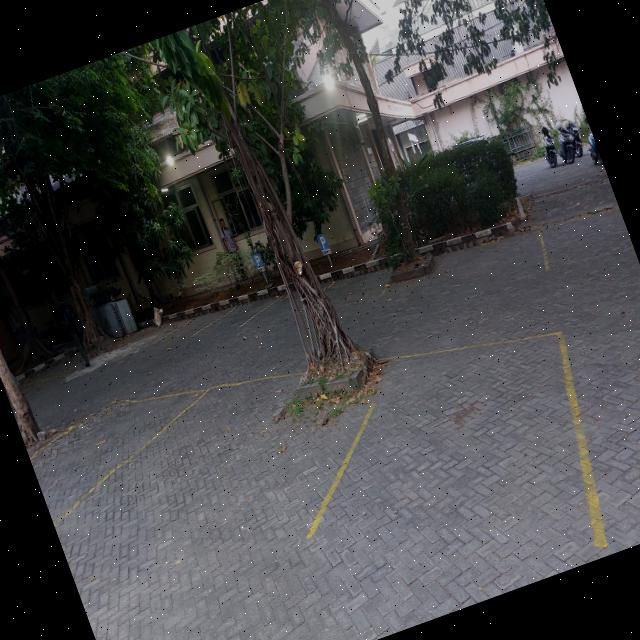empty: (309, 335, 602, 542), (54, 373, 305, 546), (30, 389, 208, 524), (423, 228, 549, 298), (193, 295, 284, 334), (324, 266, 393, 311), (239, 292, 306, 328)
